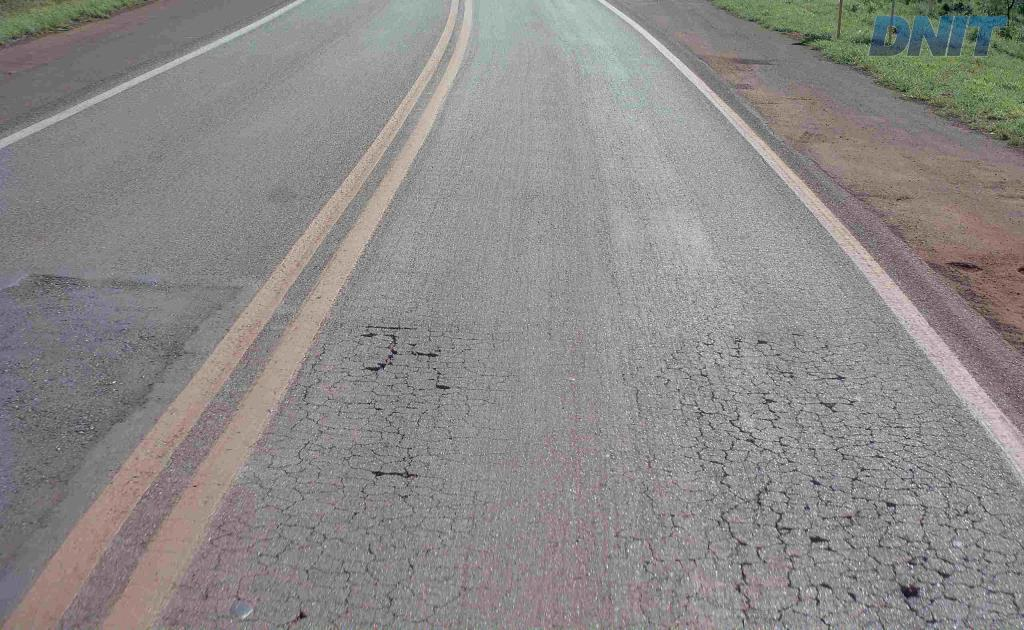crack: (700, 441, 747, 558), (902, 530, 961, 590), (728, 472, 775, 528), (883, 561, 936, 592)
